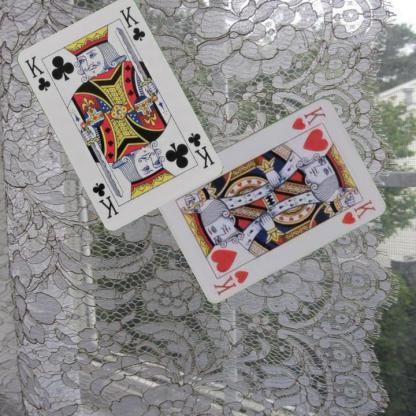Kc: (184, 129, 216, 170), (21, 53, 52, 93)
Kh: (211, 267, 251, 296), (287, 103, 328, 131)
